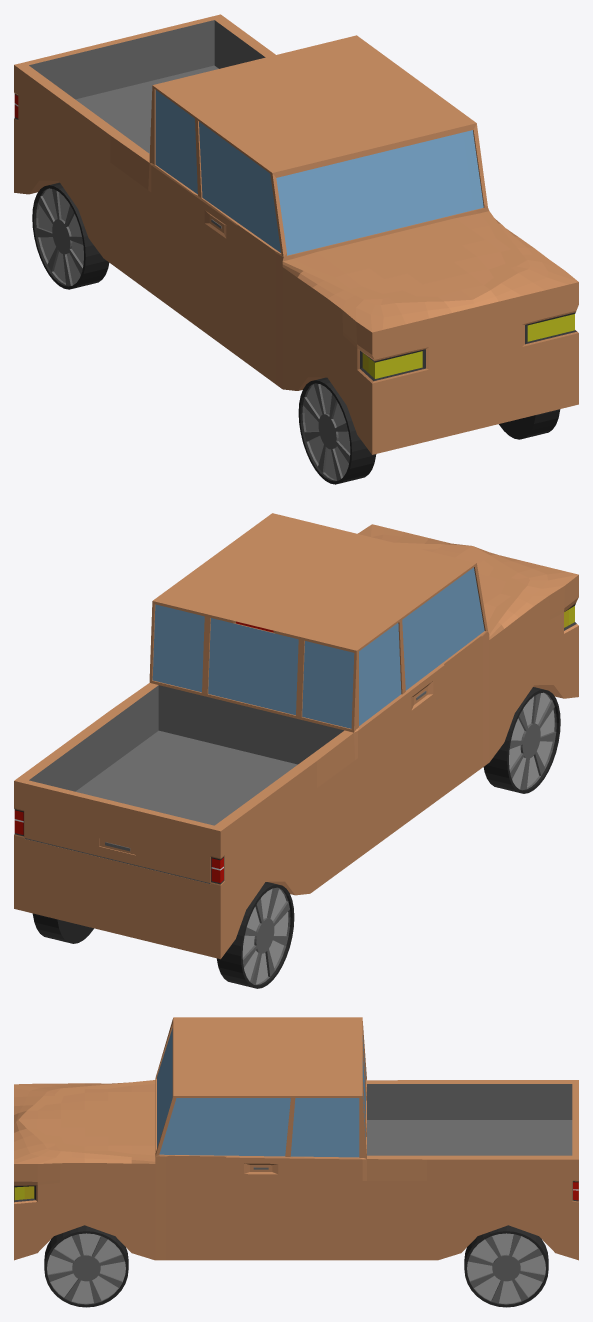
File: Pickup Truck.fbx
3 views of the same model, one above another, from view 1: azimuth 30°, elevation 25°; view 2: azimuth 150°, elevation 25°; view 3: azimuth 270°, elevation 25° (orthographic). The views are drawn at different scales.
Parts seen in each view (by area): view 1: Truck Body, Cylinder, Cylinder.001, Cylinder.003; view 2: Truck Body, Cylinder.001, Cylinder, Cylinder.002; view 3: Truck Body, Cylinder.003, Cylinder.002.
Boxes of the visible parts, box(x1,y1,x2,y2) form: Truck Body: box(14, 14, 578, 454); Cylinder: box(298, 377, 376, 484); Cylinder.001: box(32, 182, 109, 289); Cylinder.003: box(499, 409, 560, 439); Truck Body: box(14, 513, 578, 959); Cylinder.001: box(216, 882, 294, 988); Cylinder: box(483, 687, 560, 793); Cylinder.002: box(32, 913, 93, 943); Truck Body: box(14, 1017, 578, 1260); Cylinder.003: box(44, 1225, 128, 1307); Cylinder.002: box(464, 1225, 548, 1307).
Size of the model in its own units: 202 by 247 by 600.
